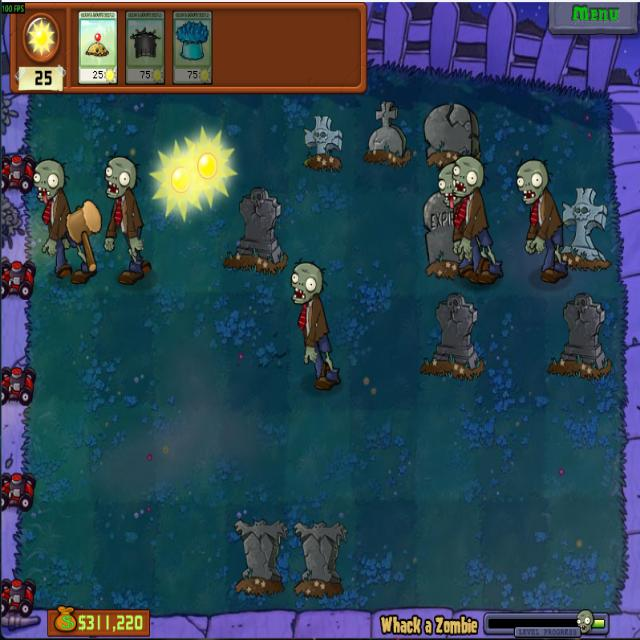grave: (545, 292, 612, 382), (223, 186, 289, 275), (420, 292, 484, 381), (557, 186, 612, 270), (232, 518, 288, 597), (292, 519, 348, 596), (423, 194, 471, 280), (424, 104, 479, 170), (364, 96, 412, 166), (300, 114, 345, 173)
zombie: (287, 258, 326, 307), (30, 157, 68, 206), (100, 154, 135, 201), (514, 158, 549, 204), (453, 150, 487, 197), (437, 163, 461, 208)
